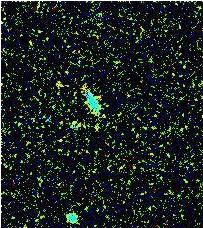star: (41, 67, 71, 97)
